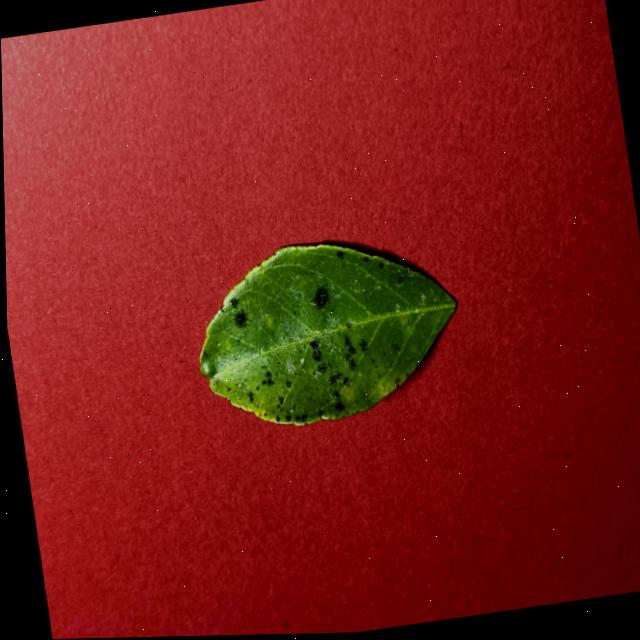sooty_mold: (198, 244, 454, 424)
